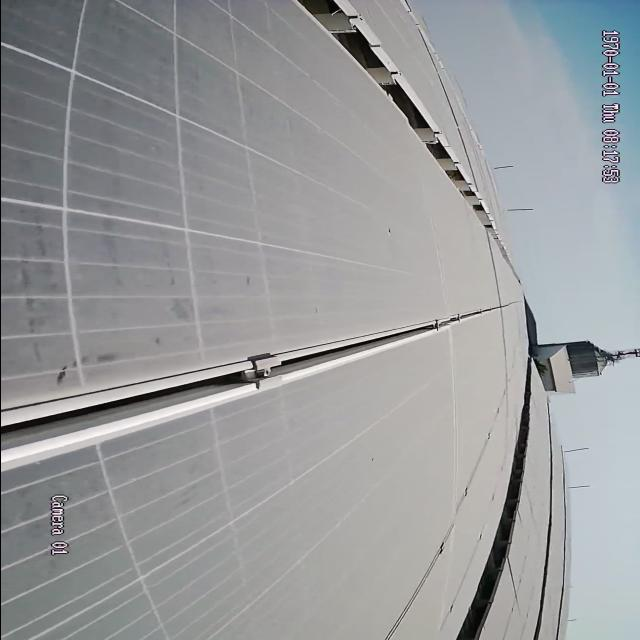interior panel: (0, 303, 512, 471)
outher panel: (291, 2, 499, 240), (456, 394, 530, 639)
